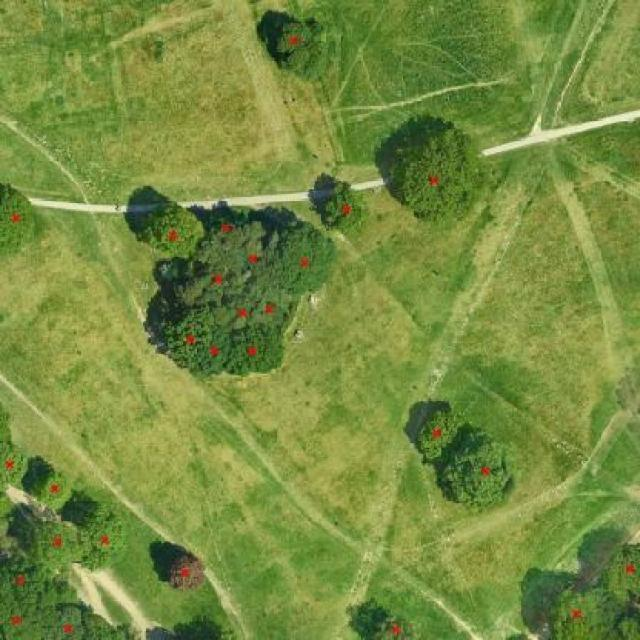tree: (395, 123, 463, 208), (451, 440, 518, 502), (285, 225, 326, 291), (269, 18, 320, 71), (316, 181, 370, 227), (168, 302, 207, 363), (552, 591, 603, 635), (34, 517, 77, 568), (0, 187, 35, 247), (86, 516, 126, 567), (149, 210, 192, 256), (30, 460, 73, 506), (195, 249, 235, 297), (414, 410, 458, 452), (612, 538, 640, 602), (365, 607, 416, 640), (0, 597, 38, 637), (162, 554, 204, 589), (0, 557, 35, 599), (204, 326, 236, 371), (52, 606, 93, 640), (234, 328, 266, 370), (207, 209, 244, 243), (257, 288, 289, 326), (0, 432, 22, 485), (232, 288, 257, 325), (242, 242, 271, 273), (611, 609, 640, 636)
